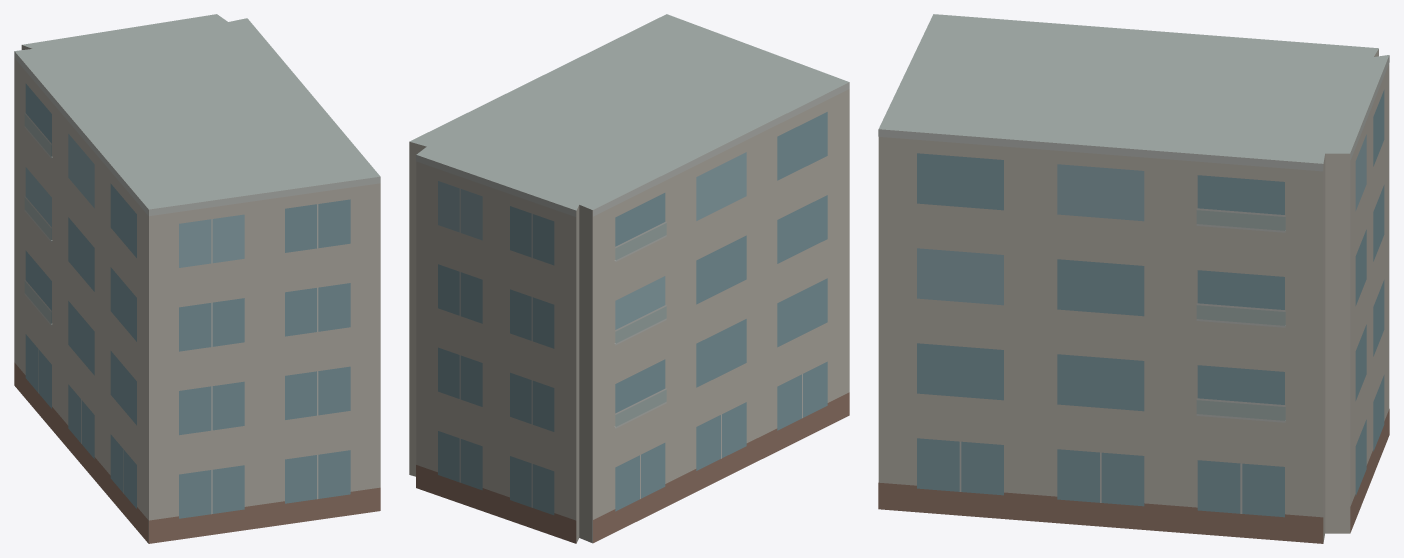
The model's file is survey-upis-32642549.glb.
The picture shows the model from 3 angles, left to right: view 1: azimuth 30°, elevation 25°; view 2: azimuth 150°, elevation 25°; view 3: azimuth 270°, elevation 25°; orthographic projection. The views are drawn at different scales.
Visible parts, largest first — view 1: survey-upis-32642549.tmp; view 2: survey-upis-32642549.tmp; view 3: survey-upis-32642549.tmp.
Part boxes in pixels (box(x1,y1,x2,y2)): survey-upis-32642549.tmp: box(14, 14, 380, 543); survey-upis-32642549.tmp: box(409, 14, 849, 543); survey-upis-32642549.tmp: box(878, 14, 1389, 543).
Bounding box in the file's own units: 10.33 × 12.2 × 14.88.
